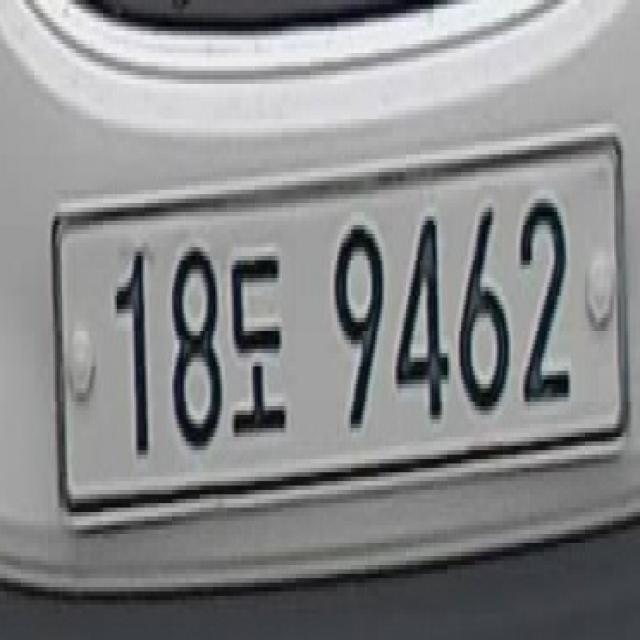1: (110, 238, 162, 477)
2: (516, 176, 576, 420)
4: (394, 203, 454, 446)
6: (454, 181, 514, 433)
8: (165, 221, 227, 468)
9: (328, 194, 396, 446)
do: (227, 230, 293, 459)
license_plate: (46, 110, 636, 543)
